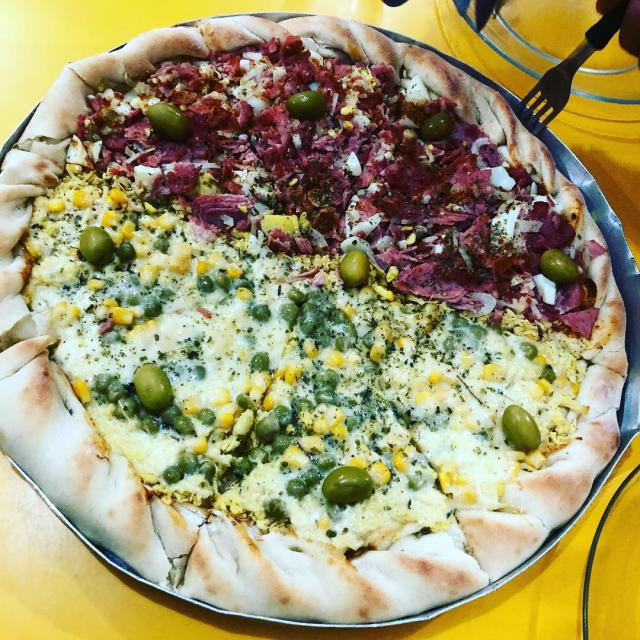green_olives: (322, 465, 374, 503), (133, 364, 174, 411), (502, 404, 542, 452), (146, 103, 189, 140), (80, 225, 114, 264), (541, 249, 578, 282), (340, 250, 371, 288), (286, 90, 327, 118), (422, 113, 454, 141)
pizza: (0, 15, 633, 626)
